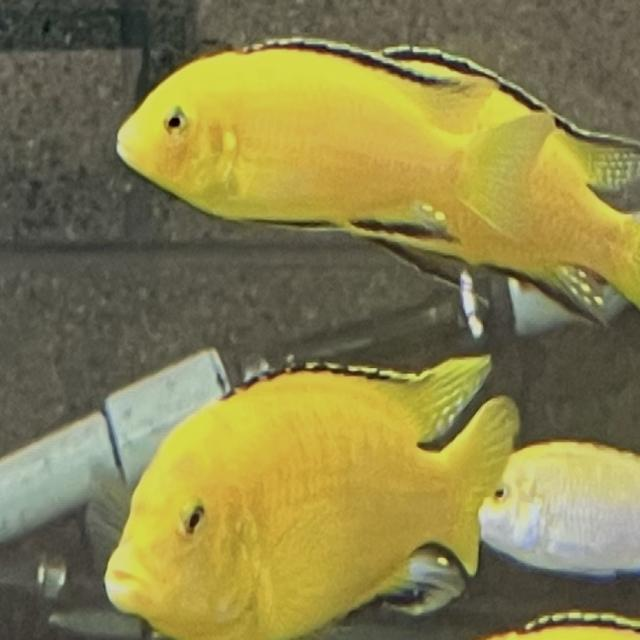YellowCichlid: (92, 347, 518, 635), (107, 34, 513, 245), (406, 45, 640, 328)
